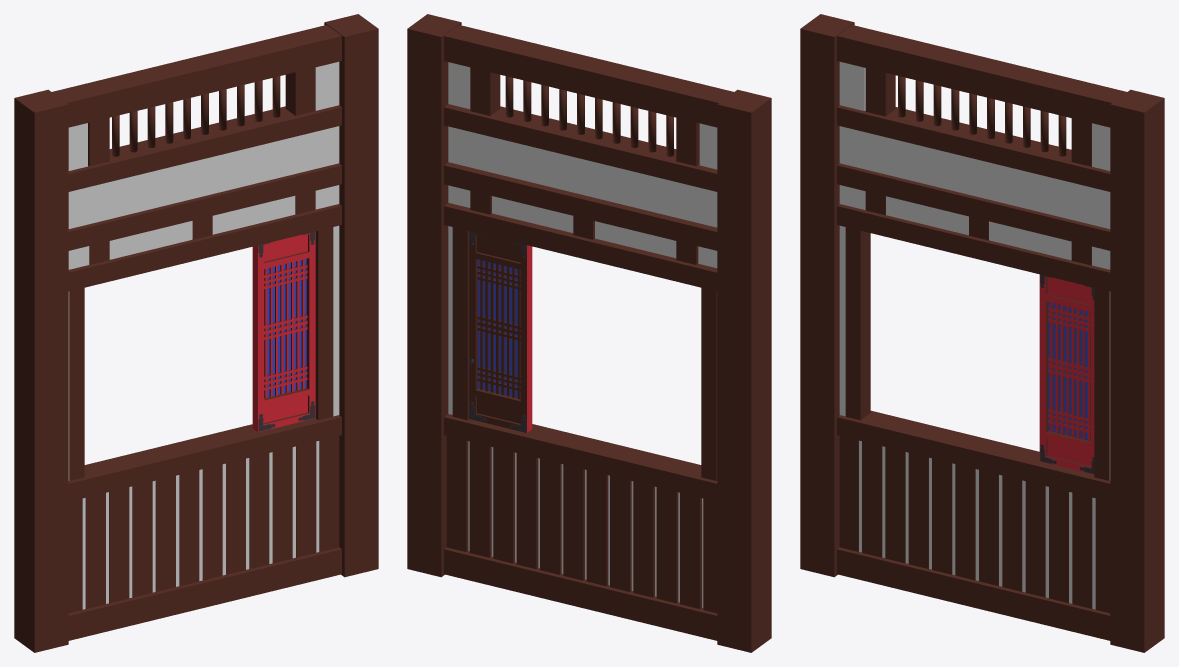
The model's file is 有材质的各位.fbx.
3 renders of one model, left to right at view 1: azimuth 30°, elevation 25°; view 2: azimuth 150°, elevation 25°; view 3: azimuth 330°, elevation 25°, orthographic.
Visible parts, largest first — view 1: wallpart1; view 2: wallpart1; view 3: wallpart1.
Part boxes in pixels (left/top/right/bottom): wallpart1: left=14, top=14, right=378, bottom=652; wallpart1: left=407, top=14, right=771, bottom=652; wallpart1: left=800, top=14, right=1164, bottom=652.
Bounding box in the file's own units: 242 × 364 × 24.66.
